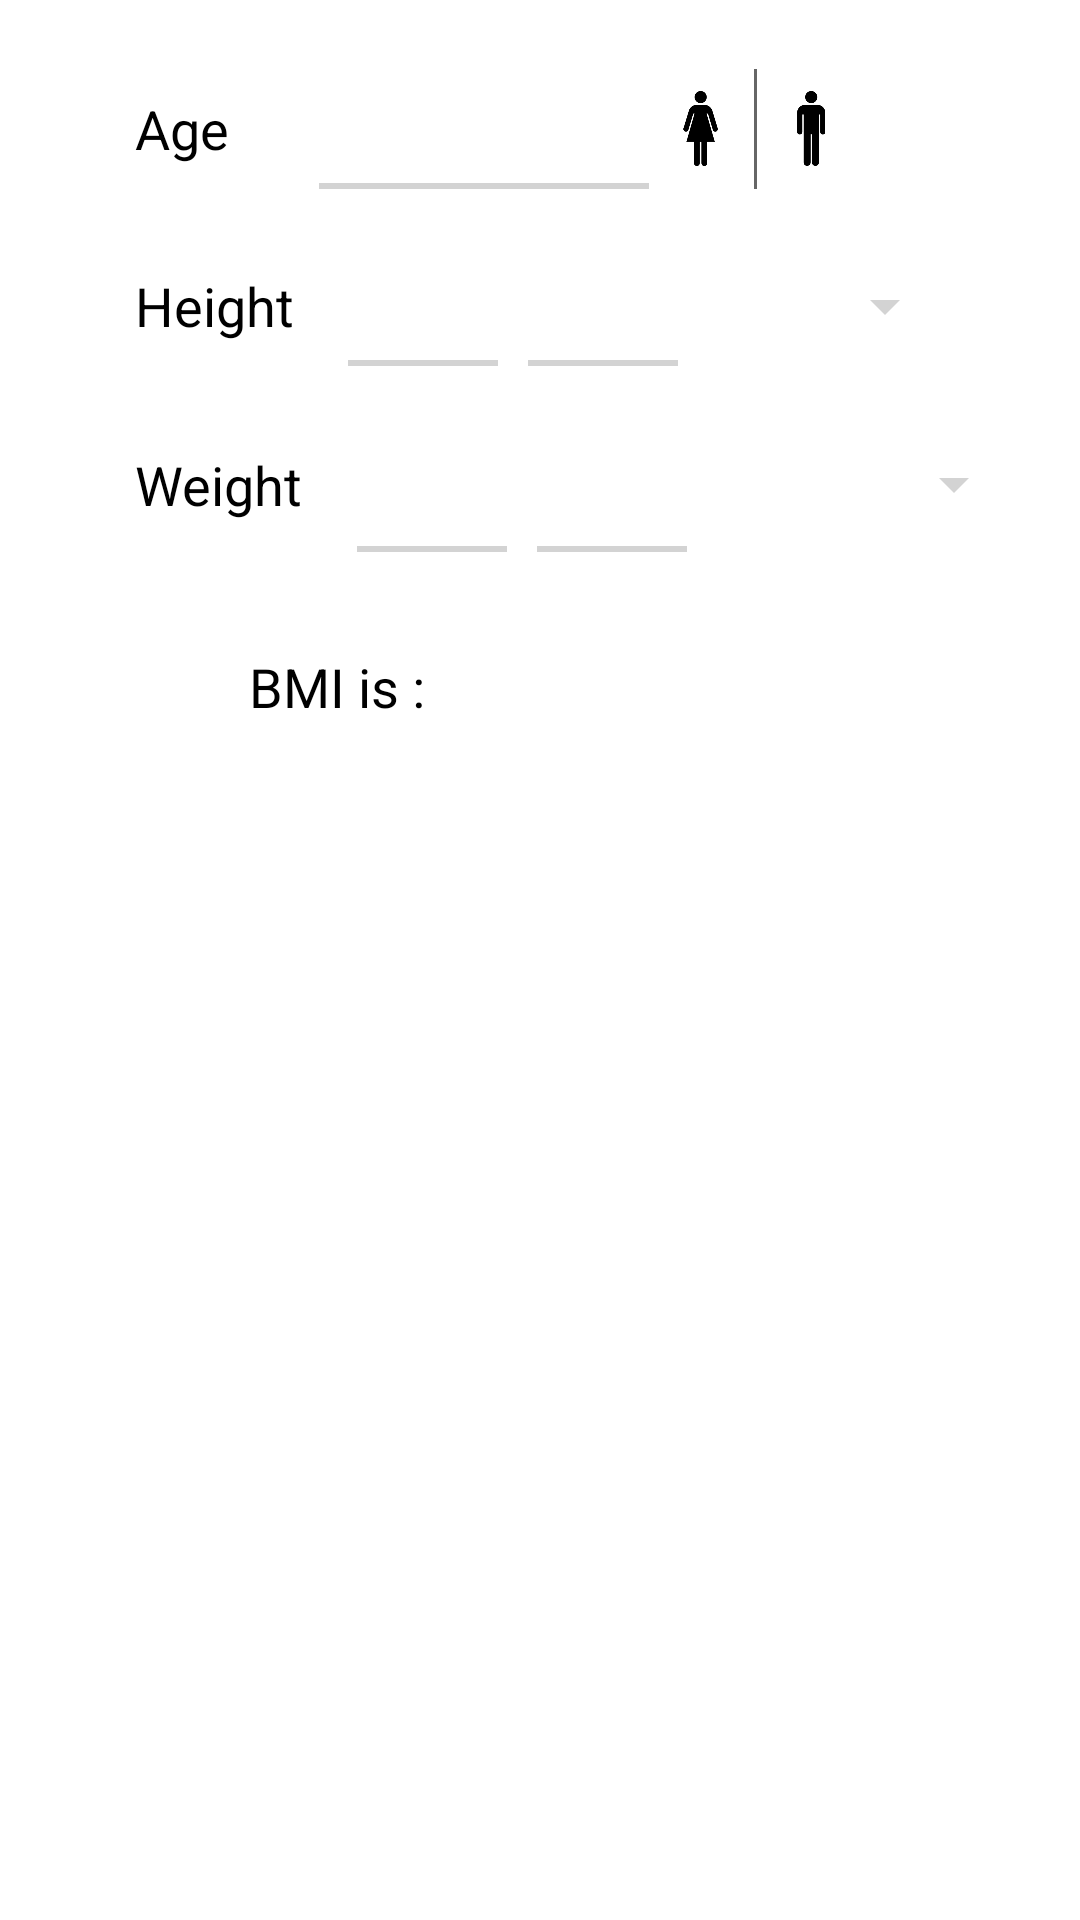

Screen size 1080*1920. Icon name, then its box in pixels as bbox(x1, y1, x2, y2):
female: bbox(683, 91, 718, 166)
male: bbox(797, 91, 825, 166)
